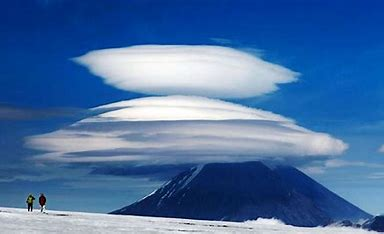Stratus: (32, 91, 355, 165), (61, 27, 302, 101)
